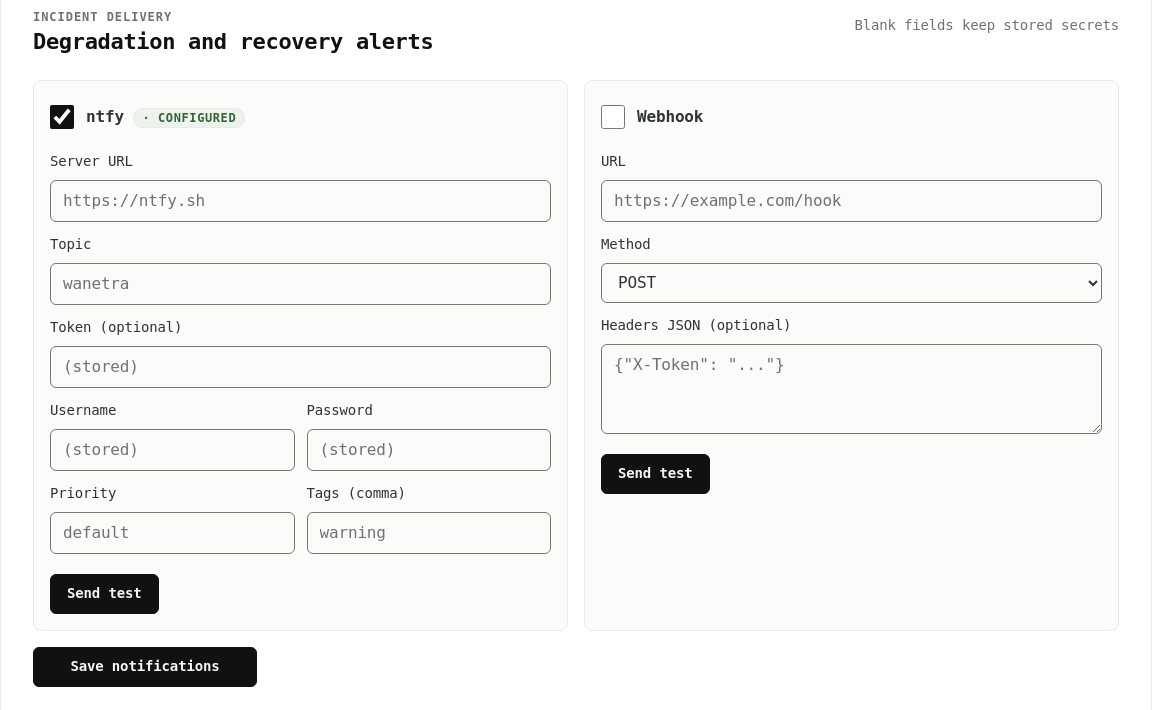
Test case: notification settings › keeps saved credentials blank in the UI and submits blank fields for server-side preservation
(page scrolled)
Expected: the password field labelled "Password" is empty, [306, 429, 551, 471]
Click the button "Save notifications": coordinates (145, 667) [33, 647, 257, 687]
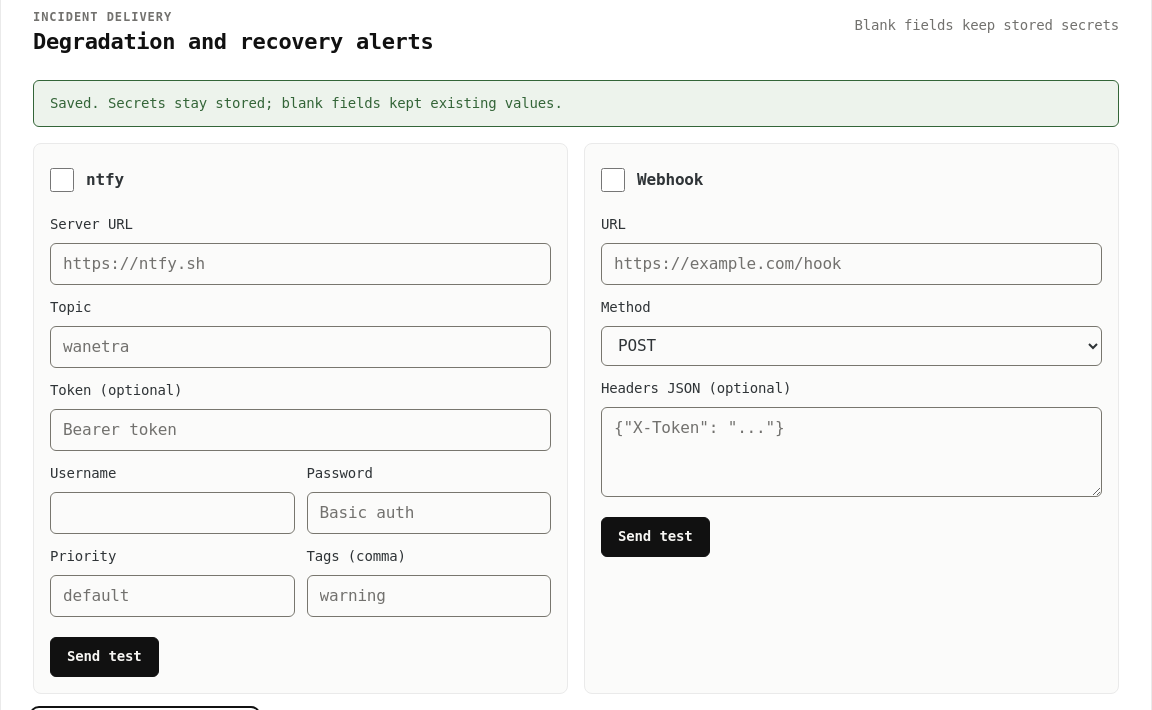
Expected: the message shows "Secrets stay stored", [50, 95, 563, 111]
